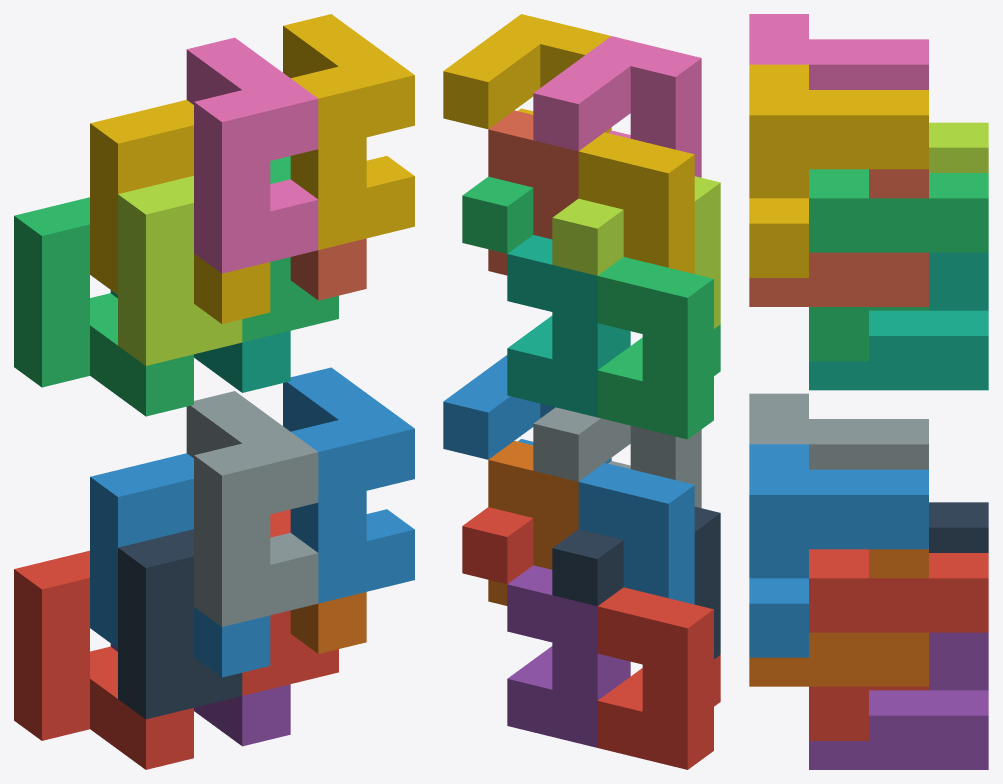
The model's file is tiling.obj.
The picture shows the model from 3 angles, left to right: view 1: azimuth 30°, elevation 25°; view 2: azimuth 150°, elevation 25°; view 3: azimuth 270°, elevation 25°; orthographic projection. The views are drawn at different scales.
Parts seen in each view (by area): view 1: copy_2_domain_4, copy_2_domain_2, copy_2_domain_8, copy_2_domain_6, copy_1_domain_3, copy_1_domain_1, copy_2_domain_1, copy_2_domain_3, copy_1_domain_2, copy_1_domain_4, copy_2_domain_5, copy_2_domain_7 (+4 smaller); view 2: copy_1_domain_3, copy_1_domain_1, copy_2_domain_4, copy_1_domain_7, copy_1_domain_5, copy_1_domain_2, copy_1_domain_4, copy_2_domain_8, copy_2_domain_2, copy_2_domain_1, copy_2_domain_3, copy_1_domain_6 (+4 smaller); view 3: copy_2_domain_6, copy_2_domain_8, copy_2_domain_5, copy_2_domain_7, copy_1_domain_7, copy_1_domain_5, copy_1_domain_6, copy_1_domain_8, copy_2_domain_2, copy_2_domain_4, copy_2_domain_1, copy_2_domain_3.
Part boxes in pixels (<box>): copy_2_domain_4: <box>186,37,318,273</box>; copy_2_domain_2: <box>186,391,318,626</box>; copy_2_domain_8: <box>283,14,414,249</box>; copy_2_domain_6: <box>283,367,414,603</box>; copy_1_domain_3: <box>14,197,193,416</box>; copy_1_domain_1: <box>14,550,193,769</box>; copy_2_domain_1: <box>118,529,242,719</box>; copy_2_domain_3: <box>118,175,242,365</box>; copy_1_domain_2: <box>90,453,270,677</box>; copy_1_domain_4: <box>90,100,270,323</box>; copy_2_domain_5: <box>242,509,338,695</box>; copy_2_domain_7: <box>242,156,338,342</box>; copy_1_domain_3: <box>597,257,720,439</box>; copy_1_domain_1: <box>597,587,720,769</box>; copy_2_domain_4: <box>533,36,701,177</box>; copy_1_domain_7: <box>507,235,630,417</box>; copy_1_domain_5: <box>507,565,630,747</box>; copy_1_domain_2: <box>578,463,694,604</box>; copy_1_domain_4: <box>578,132,694,273</box>; copy_2_domain_8: <box>443,14,611,132</box>; copy_2_domain_2: <box>533,407,701,508</box>; copy_2_domain_1: <box>552,506,720,659</box>; copy_2_domain_3: <box>552,176,720,328</box>; copy_1_domain_6: <box>488,441,578,605</box>; copy_2_domain_6: <box>749,444,928,657</box>; copy_2_domain_8: <box>749,64,928,277</box>; copy_2_domain_5: <box>809,549,988,740</box>; copy_2_domain_7: <box>809,169,988,361</box>; copy_1_domain_7: <box>809,252,988,390</box>; copy_1_domain_5: <box>809,632,988,769</box>; copy_1_domain_6: <box>749,549,928,686</box>; copy_1_domain_8: <box>749,169,928,306</box>; copy_2_domain_2: <box>749,393,928,469</box>; copy_2_domain_4: <box>749,14,928,89</box>; copy_2_domain_1: <box>929,502,988,552</box>; copy_2_domain_3: <box>929,122,988,172</box>.
Bounding box in the file's own units: 6 × 13 × 4.
